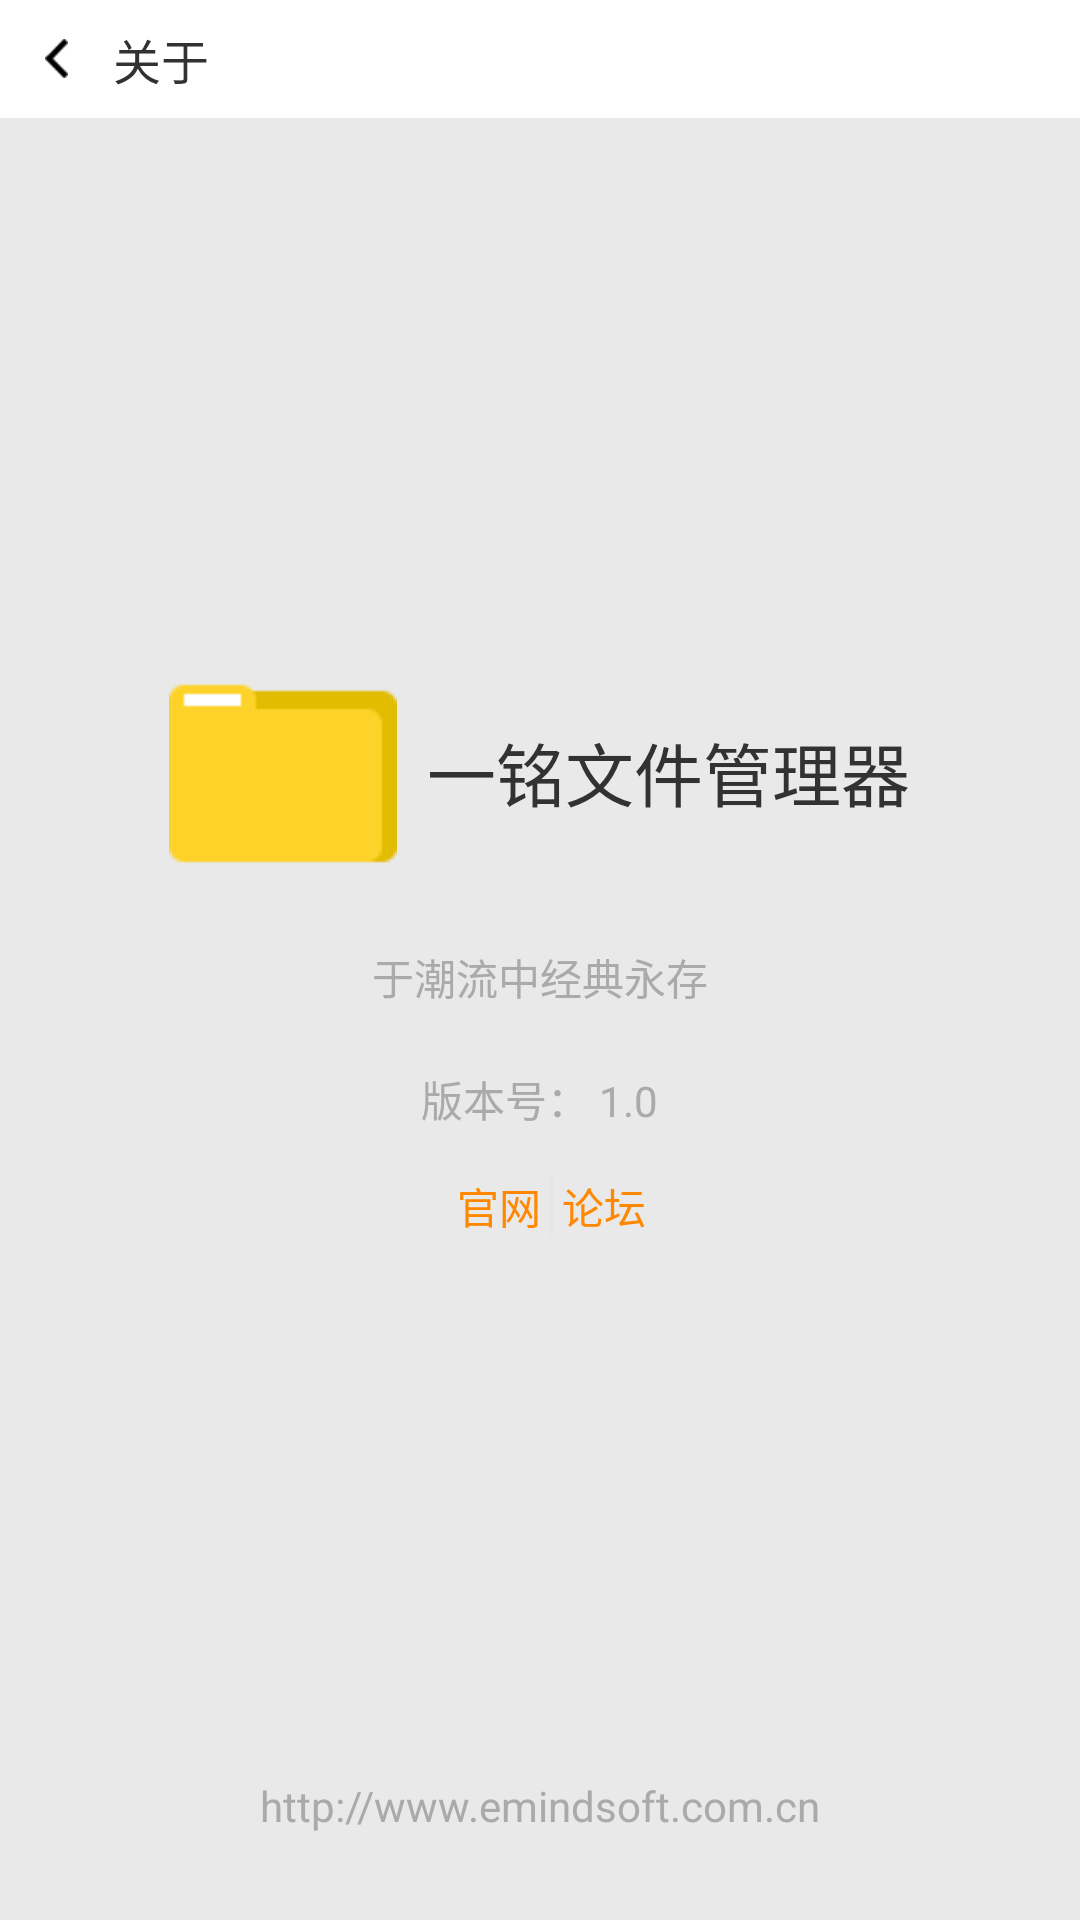

Screen size 1080w x 1920h. Icon name, then its center in pixels as point (x, y):
folder: point (283, 773)
